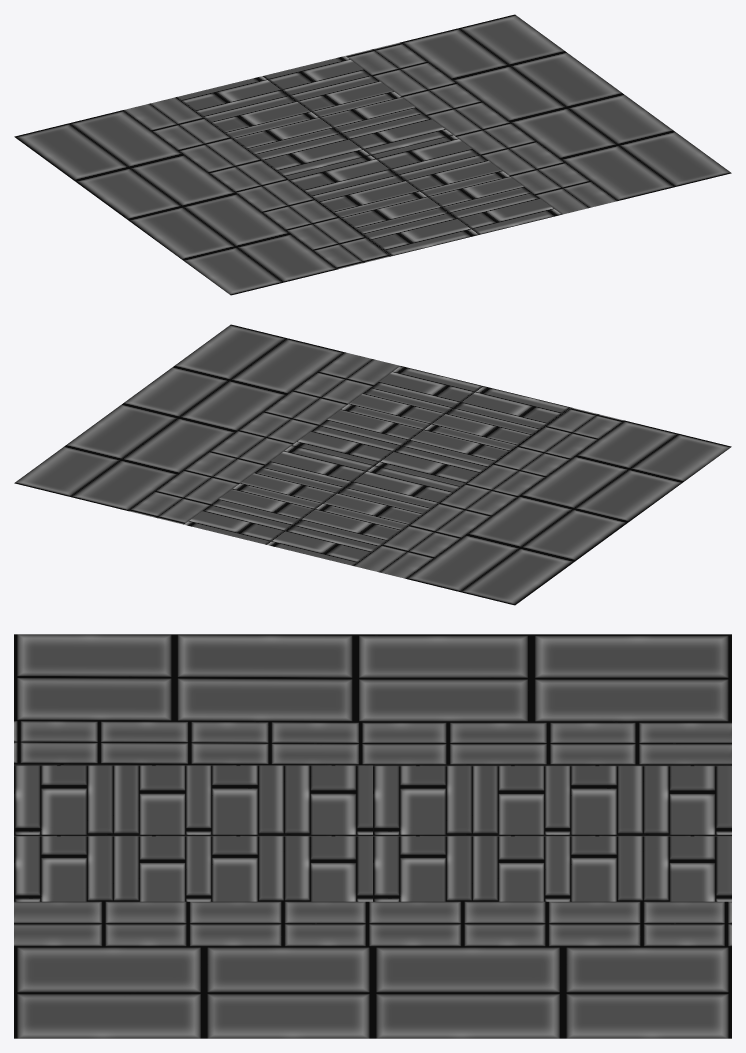
Rendered from Modular_Floor.fbx.
3 views of the same model, one above another, from view 1: azimuth 30°, elevation 25°; view 2: azimuth 150°, elevation 25°; view 3: azimuth 270°, elevation 25° (orthographic). The views are drawn at different scales.
Parts seen in each view (by area): view 1: pPlane1; view 2: pPlane1; view 3: pPlane1.
Boxes of the visible parts, left/top/right/bottom form: pPlane1: left=14, top=14, right=731, bottom=295; pPlane1: left=14, top=324, right=731, bottom=605; pPlane1: left=14, top=634, right=731, bottom=1038.
Size of the model in its own units: 400 by 2.22e-14 by 300.
